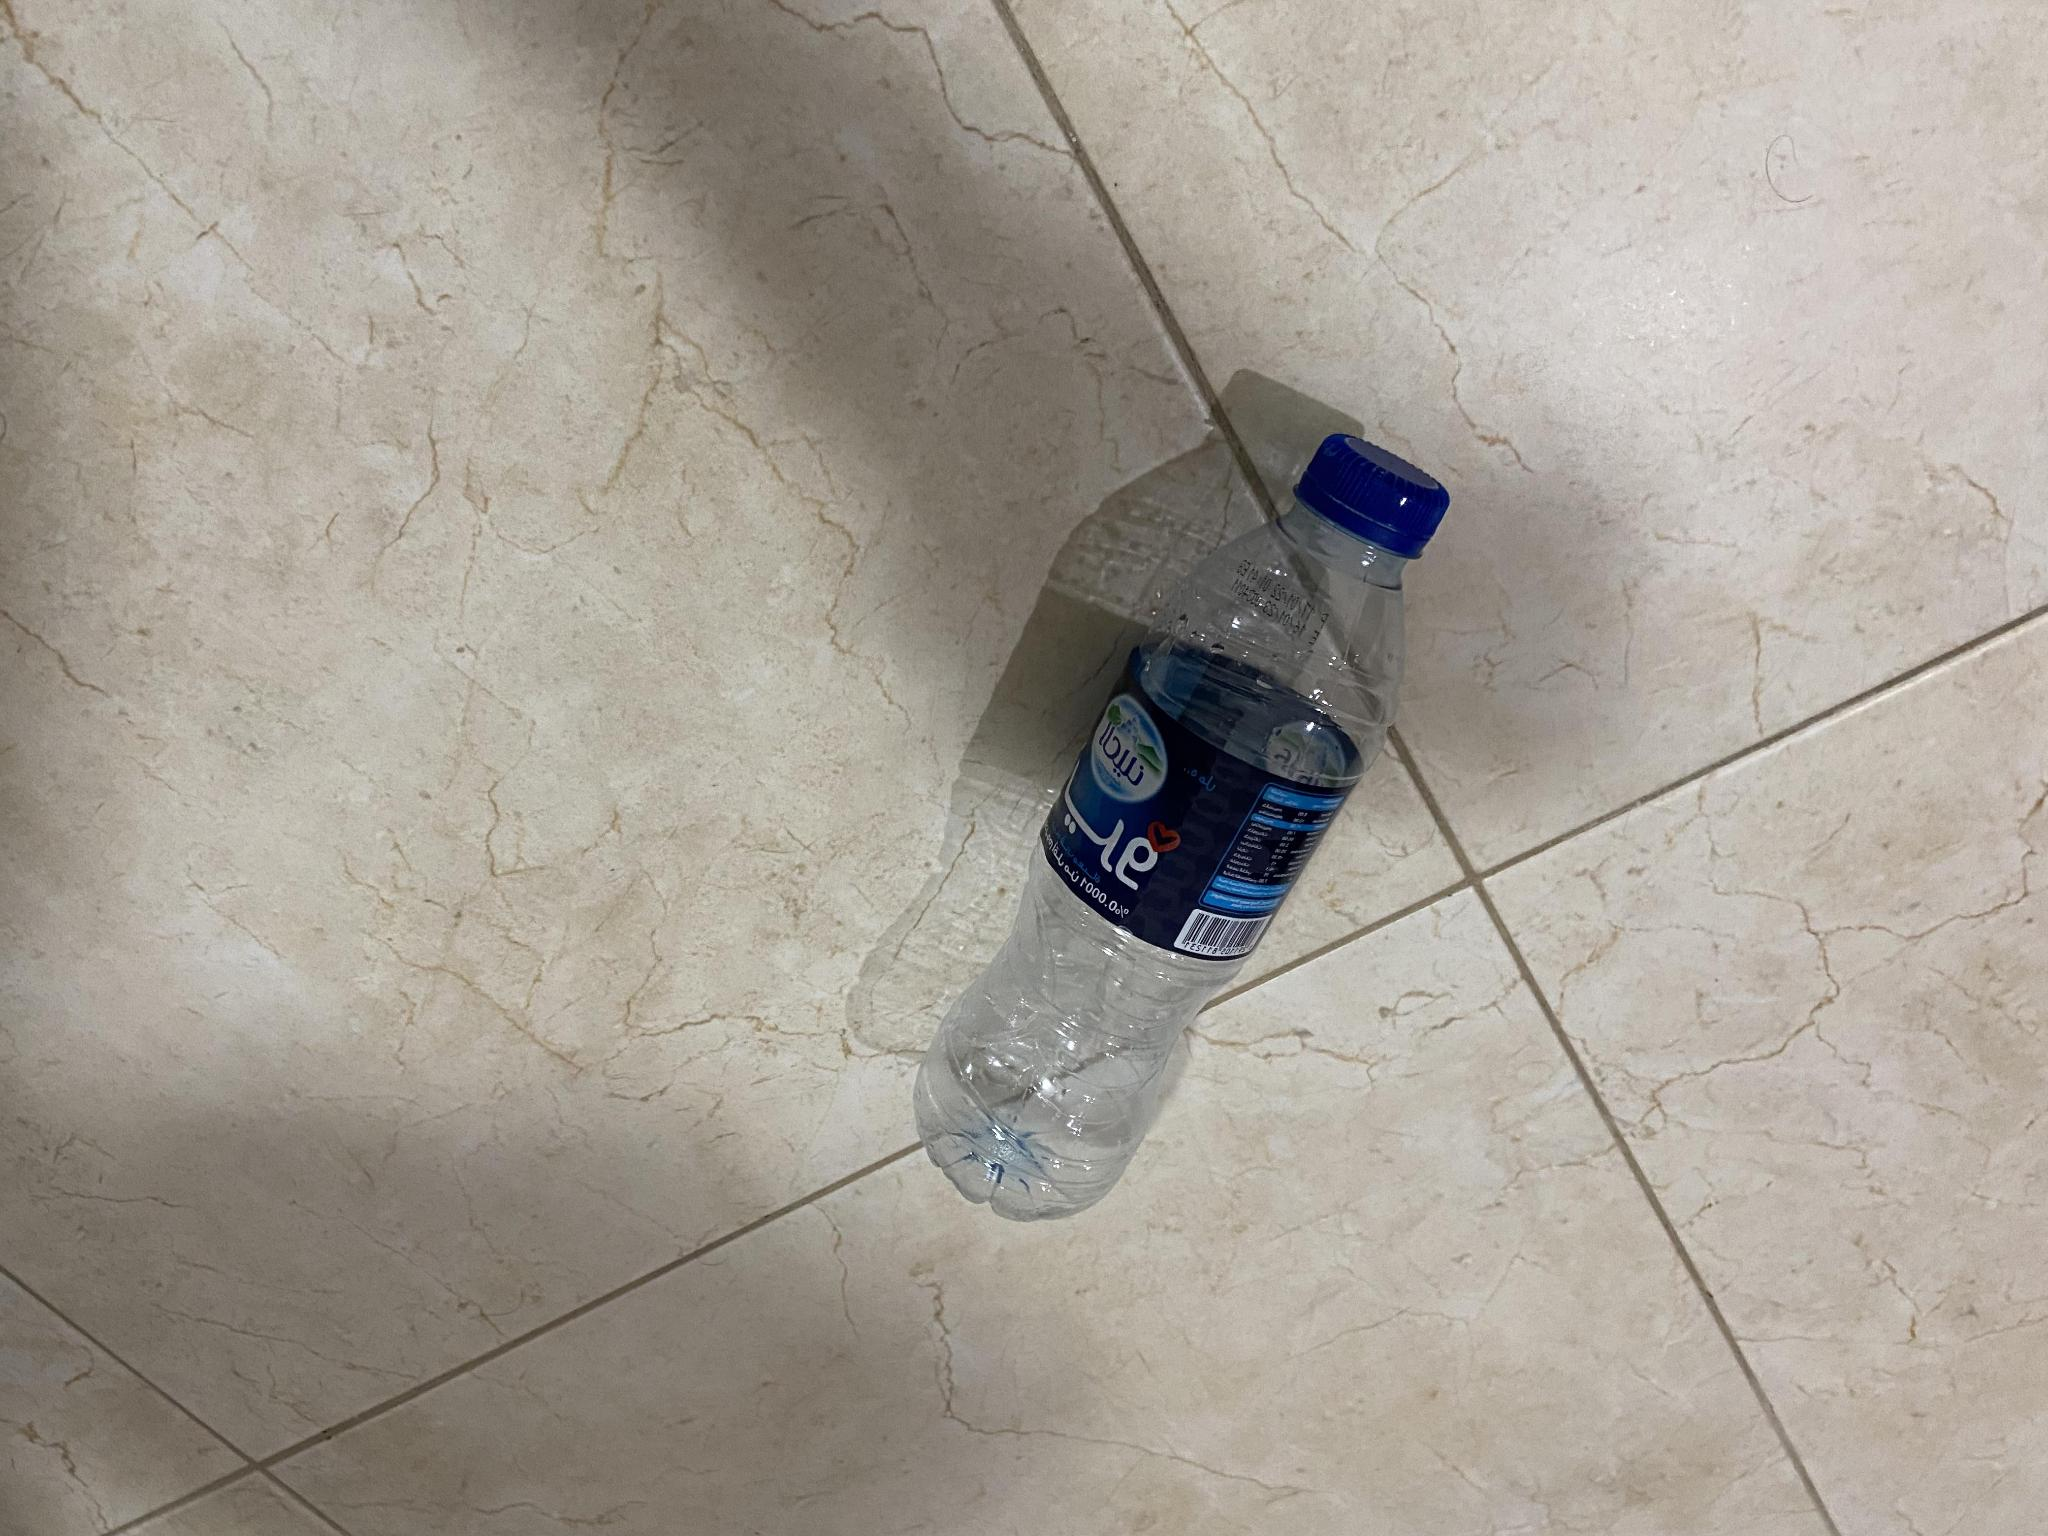bottle: (898, 397, 1456, 1239)
